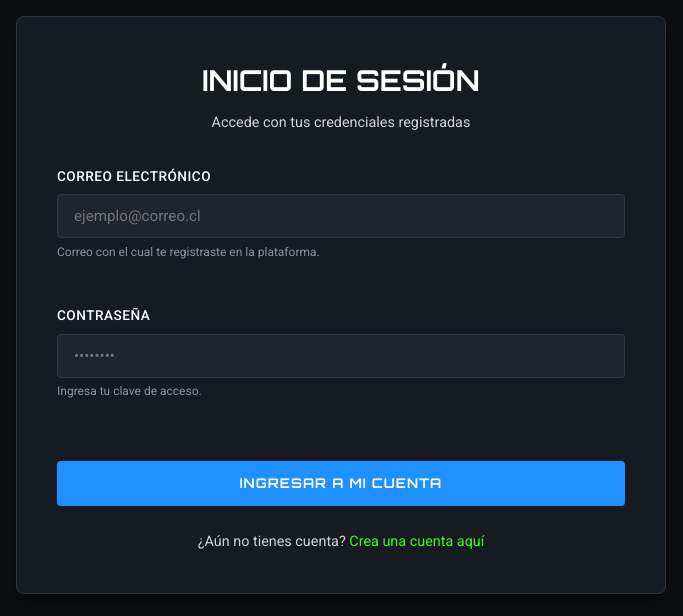
pagina Login › envío del formulario › con campos vacíos muestra ambos errores y no navega
This screenshot has width=683, height=616.
Click the button "Ingresar a mi cuenta" at (341, 483), box [57,461,625,506]
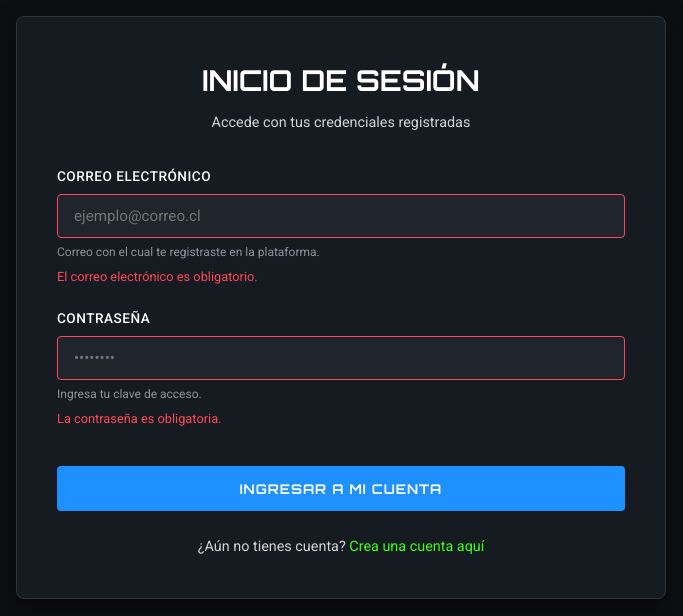
Check: the text "El correo electrónico es obligatorio." is shown, box [57,269,258,284]
Check: the text "La contraseña es obligatoria." is shown, box [57,411,222,426]
